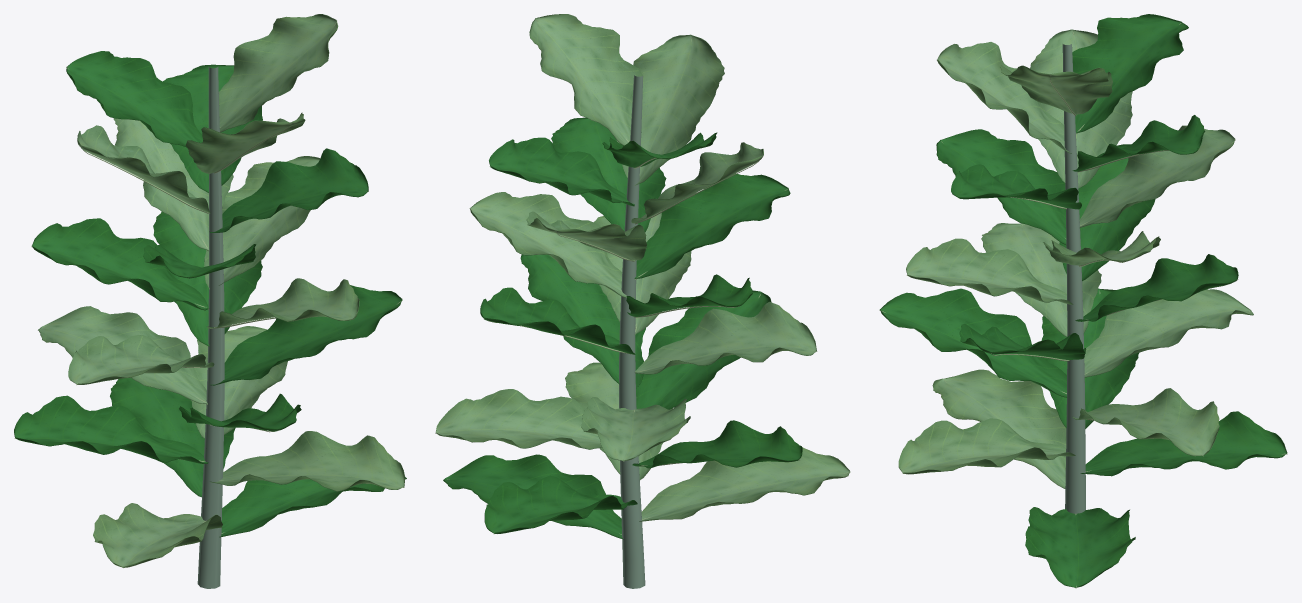
The model's file is kale-default.glb.
3 renders of one model, left to right at view 1: azimuth 30°, elevation 25°; view 2: azimuth 150°, elevation 25°; view 3: azimuth 270°, elevation 25°, orthographic. The views are drawn at different scales.
Parts seen in each view (by area): view 1: Kale · Default; view 2: Kale · Default; view 3: Kale · Default.
Part boxes in pixels (bbox=[...]): Kale · Default: bbox=[14, 14, 406, 588]; Kale · Default: bbox=[435, 14, 850, 588]; Kale · Default: bbox=[879, 14, 1287, 588].
Bounding box in the file's own units: 0.5156 × 0.7132 × 0.4917.
Materials: 4 (2 with a texture image).
